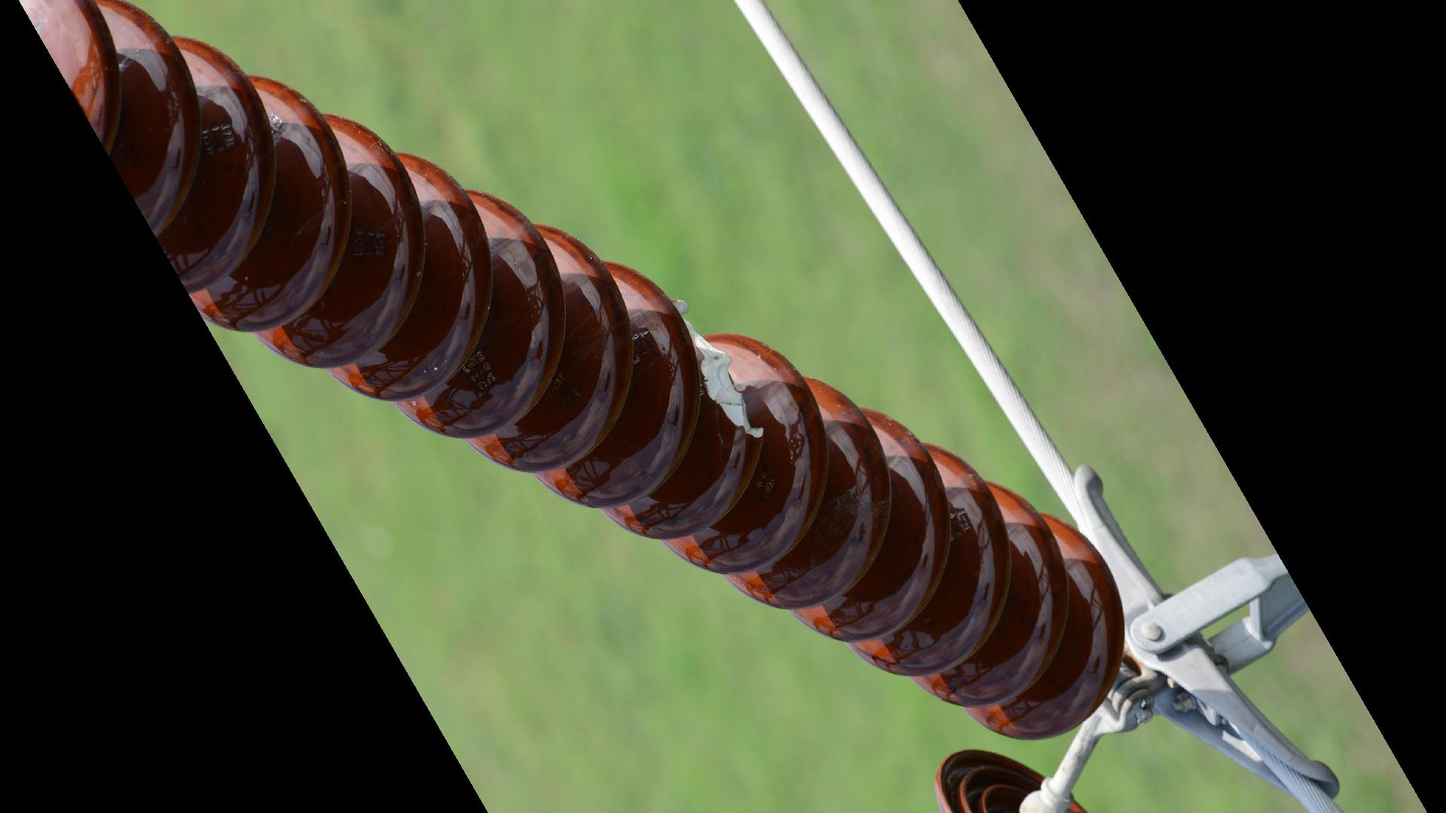insulator: (11, 1, 1133, 747)
insulator_breakage: (664, 287, 774, 456)
